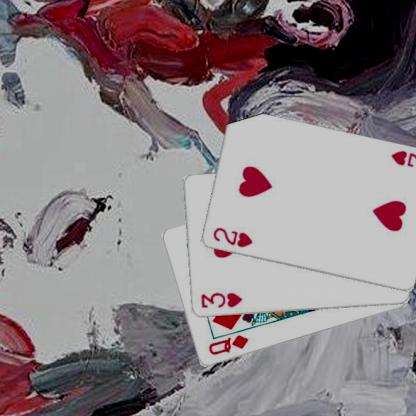2H: (210, 225, 254, 249), (387, 147, 416, 172)
3H: (198, 290, 243, 310)
QD: (206, 332, 250, 357)
